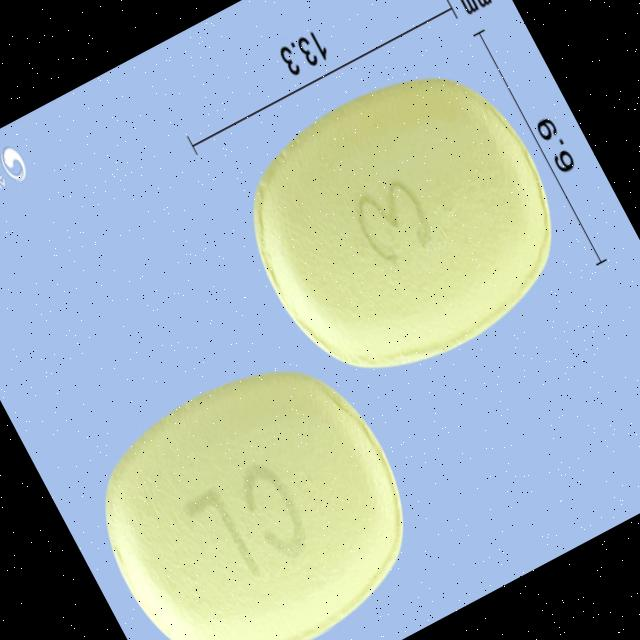Clamin: (208, 35, 598, 416), (60, 329, 450, 640)
